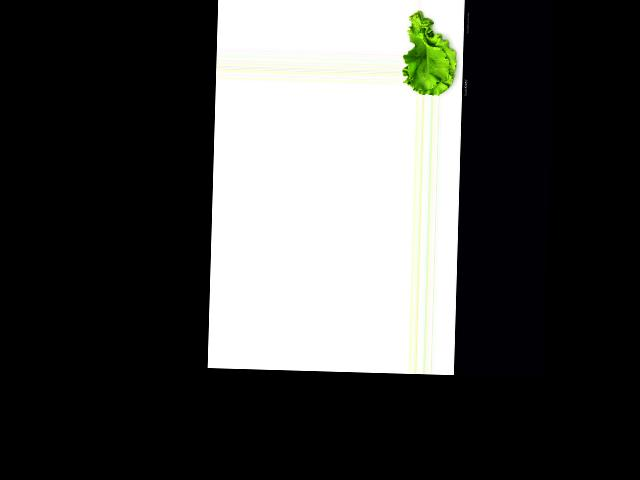lettuce: (401, 12, 462, 96)
